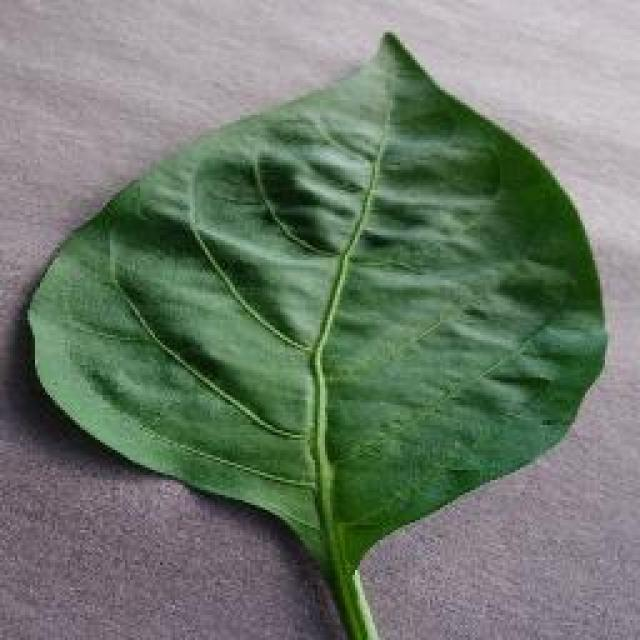Chilli_Healthy: (22, 28, 608, 638)
